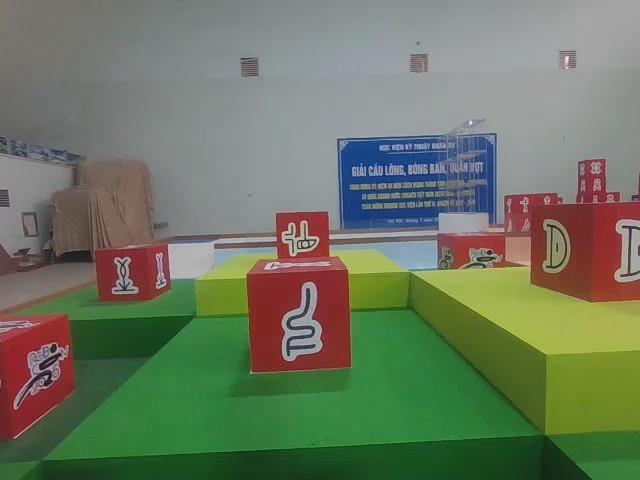R1: (0, 308, 78, 439), (435, 229, 508, 274)
R2 Fake: (244, 253, 355, 377)
R2 Real: (532, 202, 640, 302), (91, 241, 172, 306), (273, 207, 332, 266)
